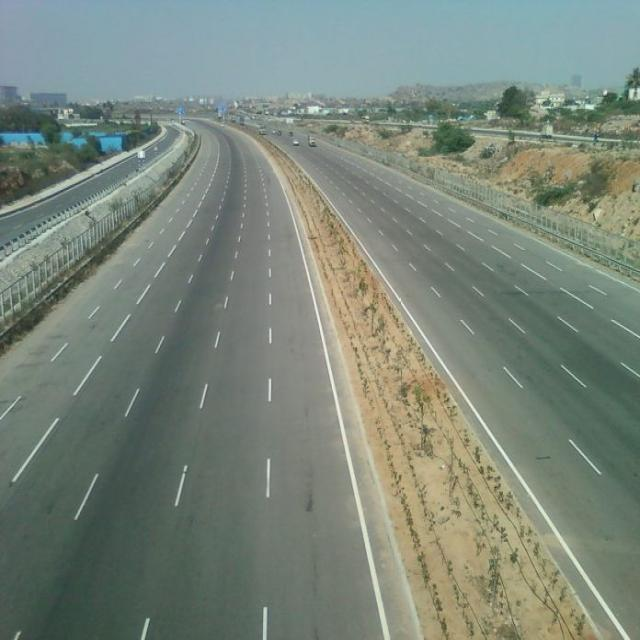Clean road: (0, 162, 640, 640)
